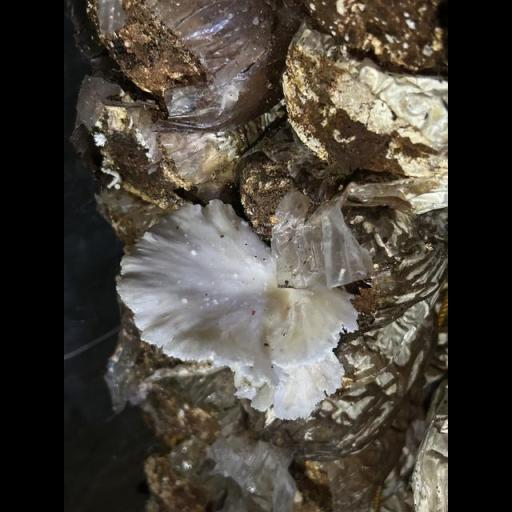White Oyster Mushroom: (119, 195, 358, 427)
